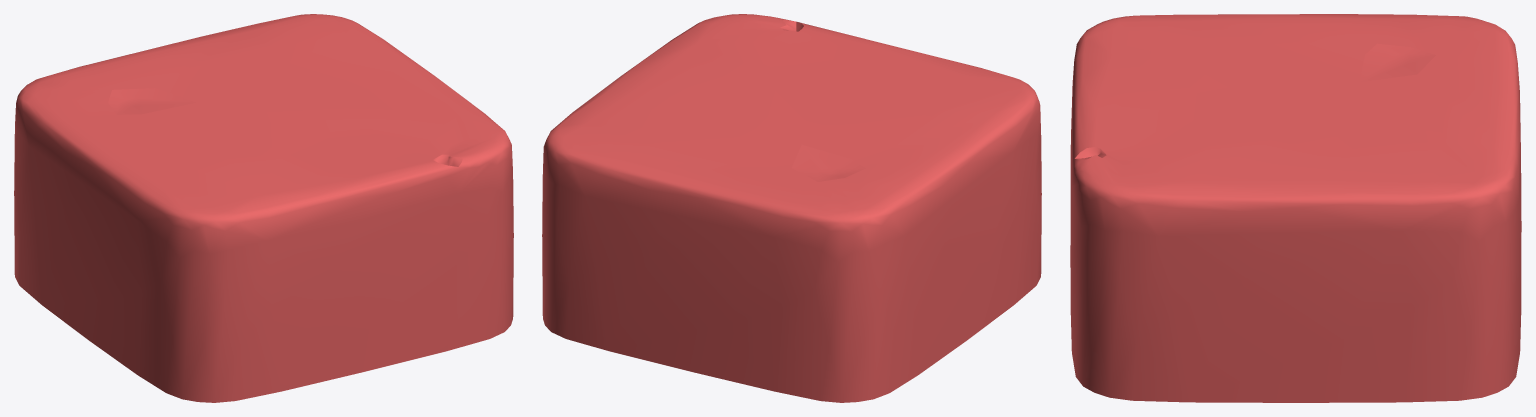
Rendered from lavaDing_02.fbx.
3 renders of one model, left to right at view 1: azimuth 30°, elevation 25°; view 2: azimuth 150°, elevation 25°; view 3: azimuth 270°, elevation 25°, orthographic. The views are drawn at different scales.
Parts seen in each view (by area): view 1: Cube.021; view 2: Cube.021; view 3: Cube.021.
Part boxes in pixels (<box>): Cube.021: <box>14,14,513,402</box>; Cube.021: <box>542,14,1041,402</box>; Cube.021: <box>1070,14,1521,402</box>.
Bounding box in the file's own units: 200 × 100 × 200.
